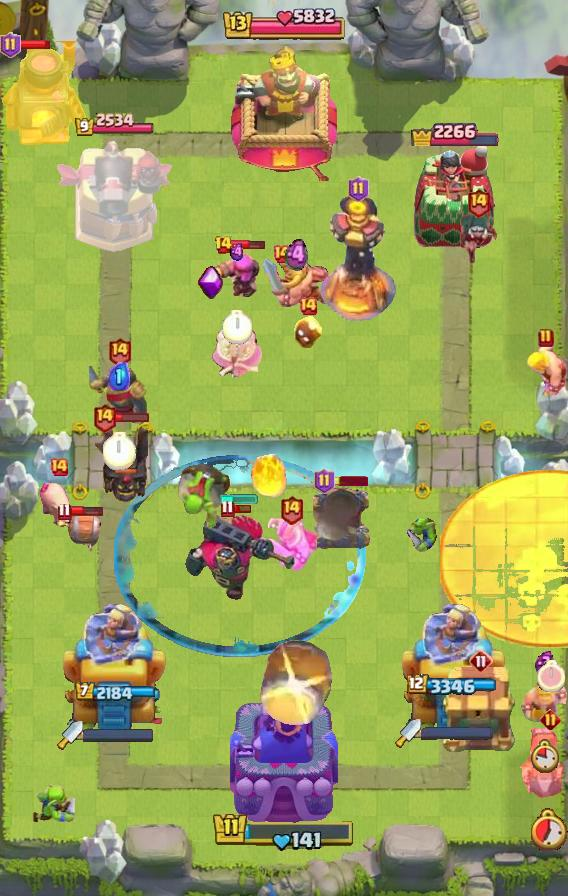archer: (524, 340, 568, 395), (520, 681, 568, 725)
archer-evolution: (90, 423, 148, 505)
bar: (59, 595, 169, 731), (398, 595, 508, 731)
bar-level: (175, 461, 233, 533)
battle-healer: (520, 728, 568, 804)
bomb: (442, 666, 520, 754)
bomber: (291, 313, 325, 351)
clock: (212, 811, 356, 853), (221, 5, 347, 45)
dirt: (259, 638, 337, 730)
electro-dragon: (319, 196, 397, 324)
electro-spirit: (285, 238, 308, 273), (110, 362, 131, 390), (535, 650, 555, 676), (229, 243, 247, 261)
elixir: (532, 808, 568, 850), (104, 432, 137, 470), (222, 310, 252, 344), (532, 739, 561, 773), (537, 660, 565, 692)
elixir-collector: (208, 312, 266, 378)
emote: (231, 239, 266, 251), (114, 413, 150, 424), (69, 505, 102, 517), (17, 38, 51, 49), (332, 476, 368, 486), (232, 502, 252, 513)
firecracker: (89, 366, 149, 426)
giant: (38, 479, 80, 531)
goblin-giant: (261, 251, 331, 309), (261, 517, 321, 573)
hunter: (0, 41, 90, 149)
ice-spirit: (219, 492, 261, 504)
inferno-tower: (184, 513, 296, 601)
king-tower: (230, 692, 338, 826), (231, 45, 337, 181)
king-tower-bar: (421, 726, 493, 740), (83, 728, 155, 742)
knight: (53, 512, 103, 554)
musketeer: (309, 486, 373, 552)
pad_0: (114, 454, 366, 658)
phoenix-egg: (440, 470, 568, 648)
queen-tower: (410, 144, 496, 255)
selected: (409, 116, 500, 146), (407, 674, 499, 698), (73, 112, 154, 138), (73, 681, 154, 702)
skeleton-king-skill: (197, 265, 223, 299)
tesla: (456, 211, 500, 267)
text: (465, 186, 490, 217), (108, 336, 133, 367), (92, 403, 117, 434), (280, 494, 305, 525), (469, 649, 493, 673), (348, 176, 369, 202), (314, 468, 335, 494), (0, 32, 20, 58), (540, 709, 561, 730), (272, 244, 292, 264), (298, 296, 318, 316), (49, 457, 69, 477), (214, 235, 233, 255), (538, 328, 554, 348), (220, 498, 235, 517), (57, 503, 71, 522)
tombstone: (211, 247, 263, 301)
tower-bar: (53, 138, 175, 256)
valkyrie: (245, 442, 291, 500)
zap: (31, 779, 79, 824), (402, 515, 442, 553)
